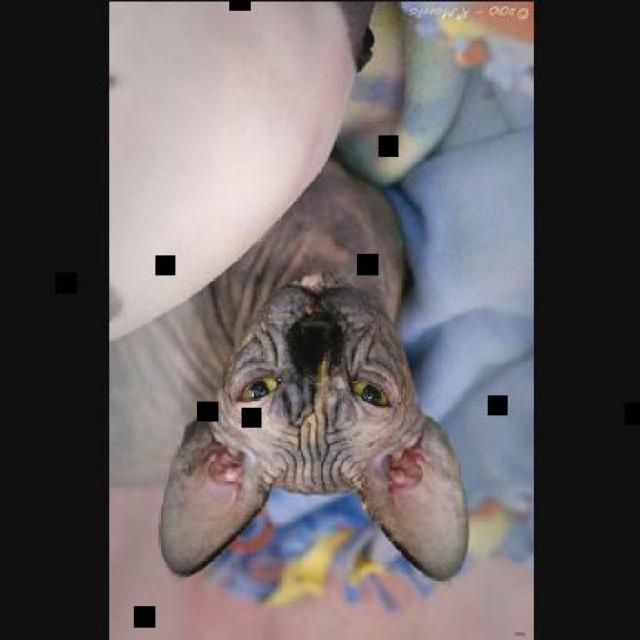unauthorized: (107, 0, 530, 592), (157, 268, 471, 584)
